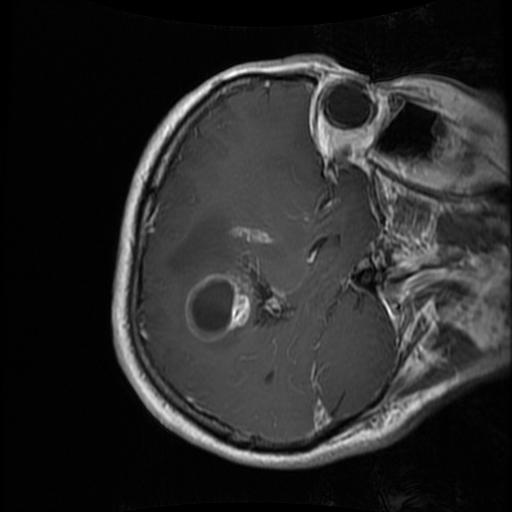glioma: (165, 214, 294, 353)
